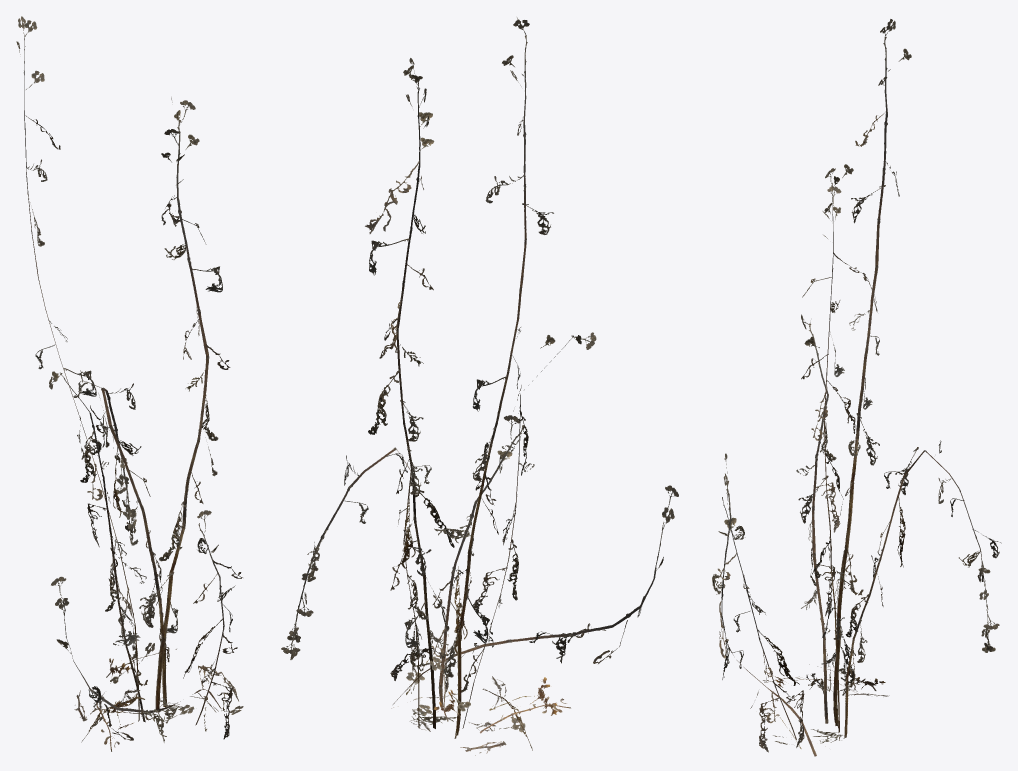
File: desert_reed_1_1.FBX
3 renders of one model, left to right at view 1: azimuth 30°, elevation 25°; view 2: azimuth 150°, elevation 25°; view 3: azimuth 270°, elevation 25°, orthographic. The views are drawn at different scales.
Visible parts, largest first — view 1: desert_reed_1_1; view 2: desert_reed_1_1; view 3: desert_reed_1_1.
Part boxes in pixels (left/top/right/bottom): desert_reed_1_1: left=16, top=16, right=243, bottom=751; desert_reed_1_1: left=281, top=17, right=678, bottom=755; desert_reed_1_1: left=712, top=19, right=1001, bottom=756.
Bounding box in the file's own units: 38.34 × 111 × 43.86.
Materials: 1 (1 with a texture image).
